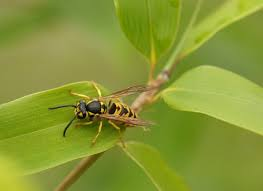insect: (47, 81, 150, 146)
